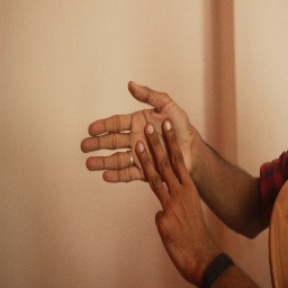M: (76, 72, 206, 210)
